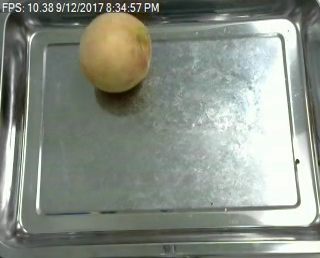Peach: (79, 10, 152, 93)
